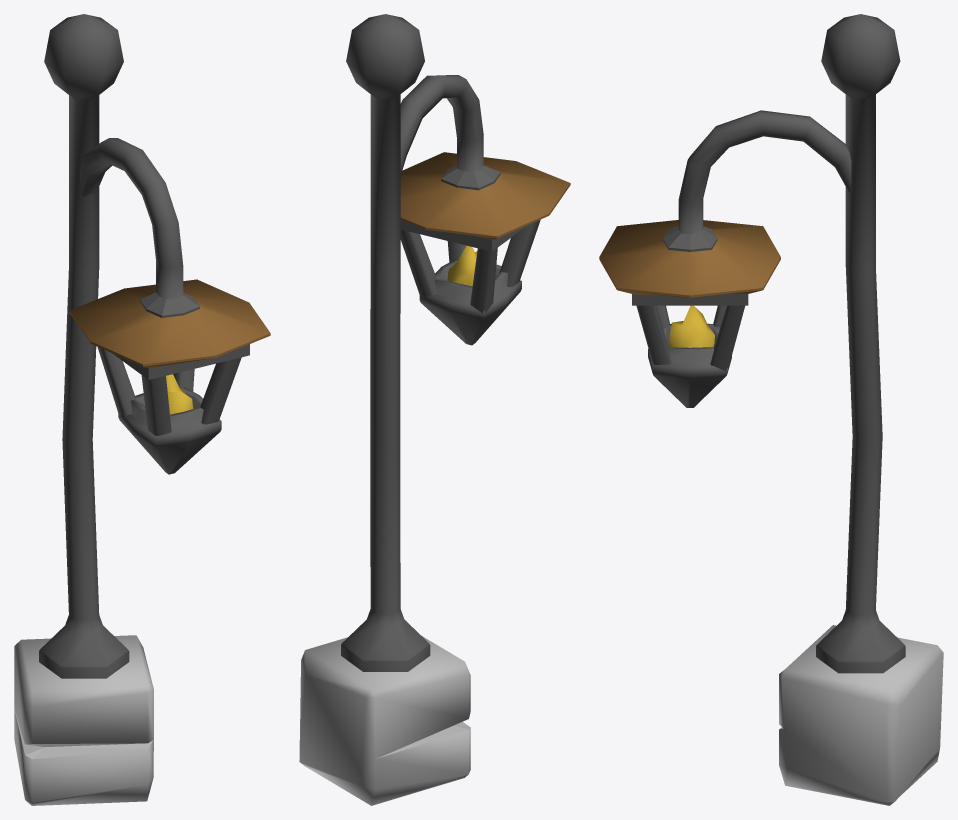
The model's file is streetlamp1.fbx.
The picture shows the model from 3 angles, left to right: view 1: azimuth 30°, elevation 25°; view 2: azimuth 150°, elevation 25°; view 3: azimuth 270°, elevation 25°; orthographic projection.
Parts seen in each view (by area): view 1: Cube, Cube.001; view 2: Cube, Cube.001; view 3: Cube, Cube.001.
Part boxes in pixels (box(x1,y1,x2,y2)): Cube: box(14, 14, 270, 805); Cube.001: box(166, 374, 193, 414); Cube: box(299, 14, 570, 805); Cube.001: box(447, 245, 477, 286); Cube: box(599, 14, 943, 805); Cube.001: box(668, 305, 714, 347).
Bounding box in the file's own units: 0.3188 × 1.47 × 0.6043.
